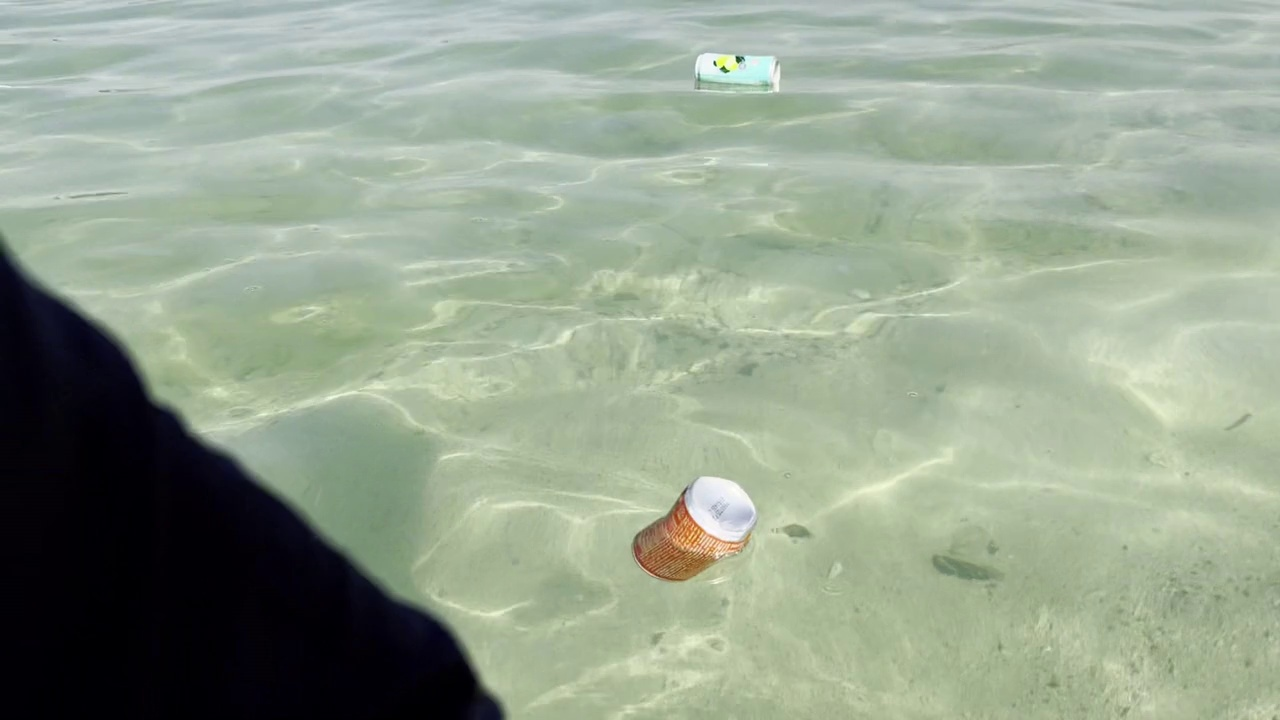debris: (624, 468, 756, 588), (687, 45, 787, 98)
